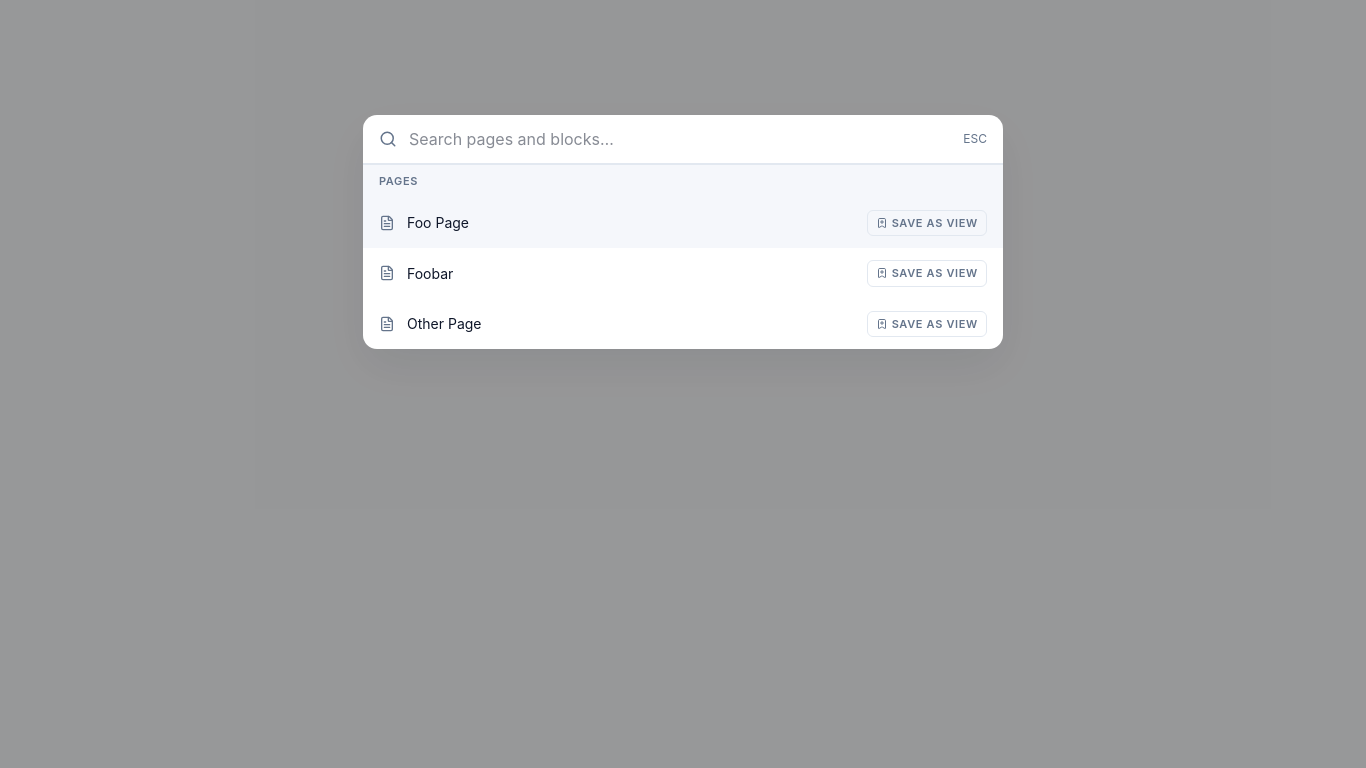
it: SearchModal › shows both page matches and block matches when the query is non-empty
The image size is (1366, 768).
Step 1. Type "foo" into the field with placeholder "Search pages and blocks…" → (680, 139), box [409,127,951,151]
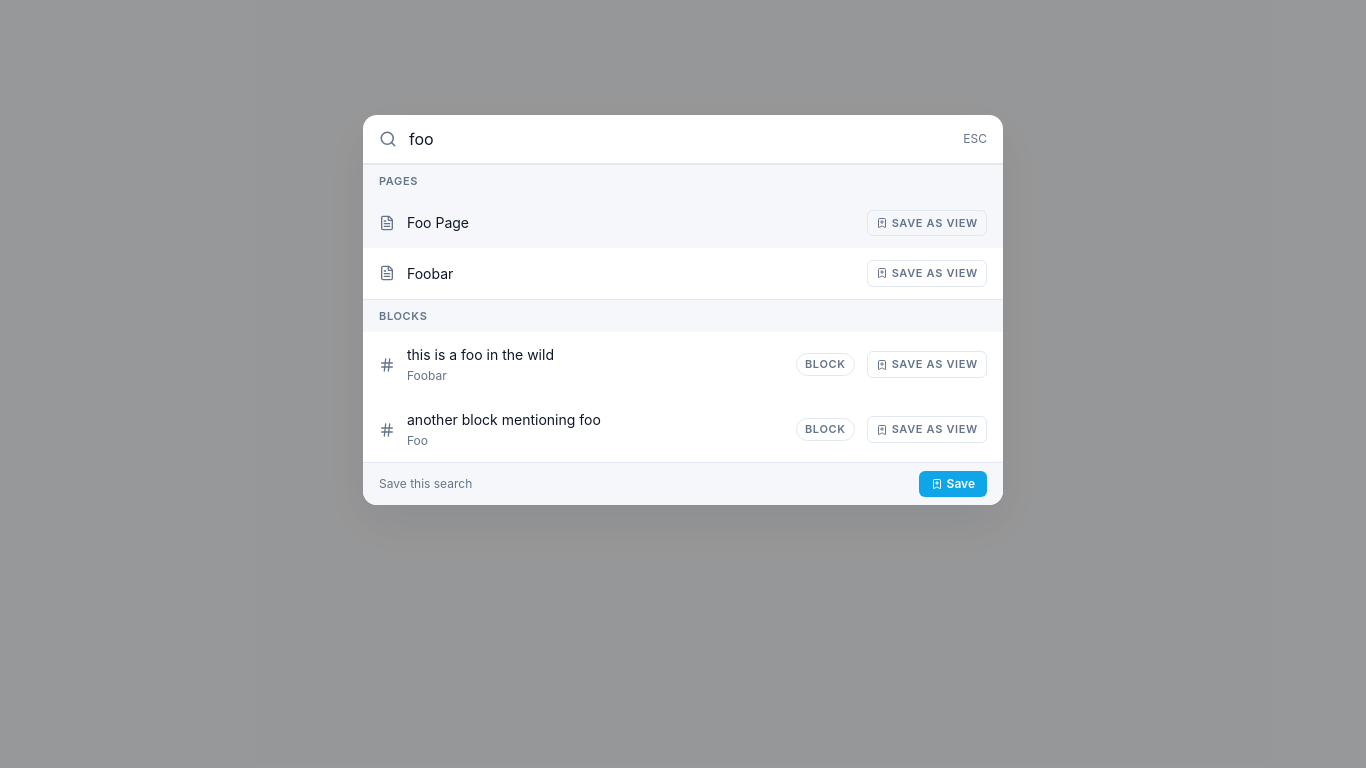
Result: the text "this is a foo in the wild" is shown at [407,346,554,363]
Result: the button "Other Page" is gone
Result: the text "Blocks" is shown at [363,299,1003,332]
